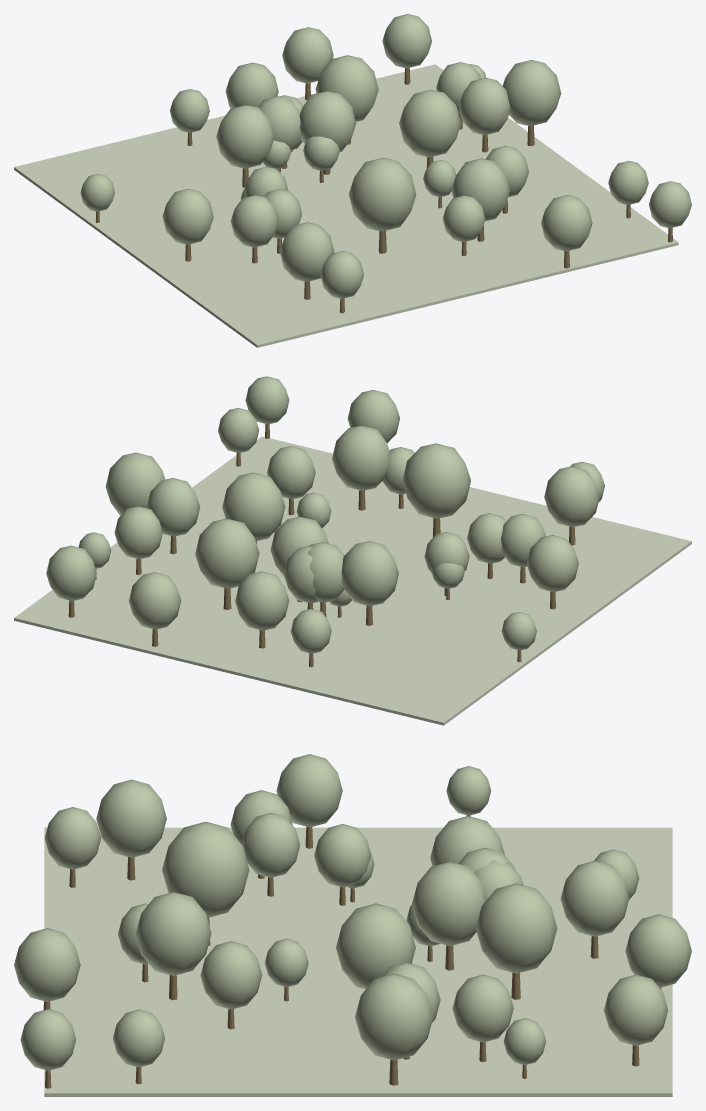
The picture shows the model from 3 angles, top to bottom: view 1: azimuth 30°, elevation 25°; view 2: azimuth 150°, elevation 25°; view 3: azimuth 270°, elevation 25°; orthographic projection. The views are drawn at different scales.
Visible parts, largest first — view 1: terrain, lod-near-1, lod-near-30, lod-near-14, lod-near-20, lod-near-0, lod-near-28, lod-near-24, lod-near-5, lod-near-22, lod-near-17, lod-near-29 (+18 smaller); view 2: terrain, lod-near-1, lod-near-0, lod-near-30, lod-near-5, lod-near-20, lod-near-24, lod-near-14, lod-near-31, lod-near-18, lod-near-29, lod-near-22 (+18 smaller); view 3: terrain, lod-near-1, lod-near-0, lod-near-14, lod-near-5, lod-near-30, lod-near-28, lod-near-24, lod-near-31, lod-near-17, lod-near-18, lod-near-29 (+18 smaller).
Part boxes in pixels (box(x1,y1,x2,y2)): terrain: box(14, 64, 678, 347); lod-near-1: box(348, 157, 416, 231); lod-near-30: box(399, 89, 460, 157); lod-near-14: box(502, 60, 561, 126); lod-near-20: box(216, 105, 274, 168); lod-near-0: box(315, 55, 378, 121); lod-near-28: box(299, 91, 356, 151); lod-near-24: box(280, 222, 334, 281); lod-near-5: box(451, 158, 509, 221); lod-near-22: box(459, 77, 510, 135); lod-near-17: box(541, 195, 592, 251); lod-near-29: box(162, 188, 213, 244); terrain: box(14, 436, 691, 725); lod-near-1: box(402, 443, 470, 518); lod-near-0: box(195, 518, 259, 588); lod-near-30: box(222, 472, 285, 540); lod-near-5: box(332, 425, 390, 490); lod-near-20: box(341, 541, 398, 606); lod-near-24: box(544, 466, 599, 527); lod-near-14: box(105, 452, 165, 515); lod-near-31: box(235, 571, 289, 630); lod-near-18: box(129, 572, 181, 629); lod-near-29: box(527, 535, 578, 592); lod-near-22: box(146, 478, 200, 536); terrain: box(44, 827, 672, 1096); lod-near-1: box(162, 821, 249, 917); lod-near-0: box(475, 883, 557, 973); lod-near-14: box(355, 973, 433, 1060); lod-near-5: box(135, 892, 211, 975); lod-near-30: box(336, 903, 415, 989); lod-near-28: box(412, 861, 486, 945); lod-near-24: box(96, 779, 166, 857); lod-near-31: box(560, 860, 629, 936); lod-near-17: box(14, 928, 80, 1001); lod-near-18: box(625, 914, 691, 987); lod-near-29: box(276, 754, 342, 827).
Bounding box in the file's own units: 33.83 × 7.03 × 34.52.
